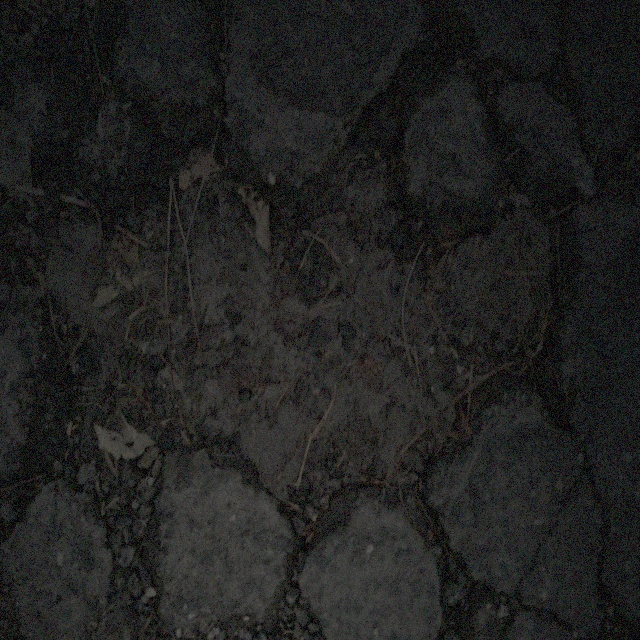pothole: (118, 154, 579, 563)
